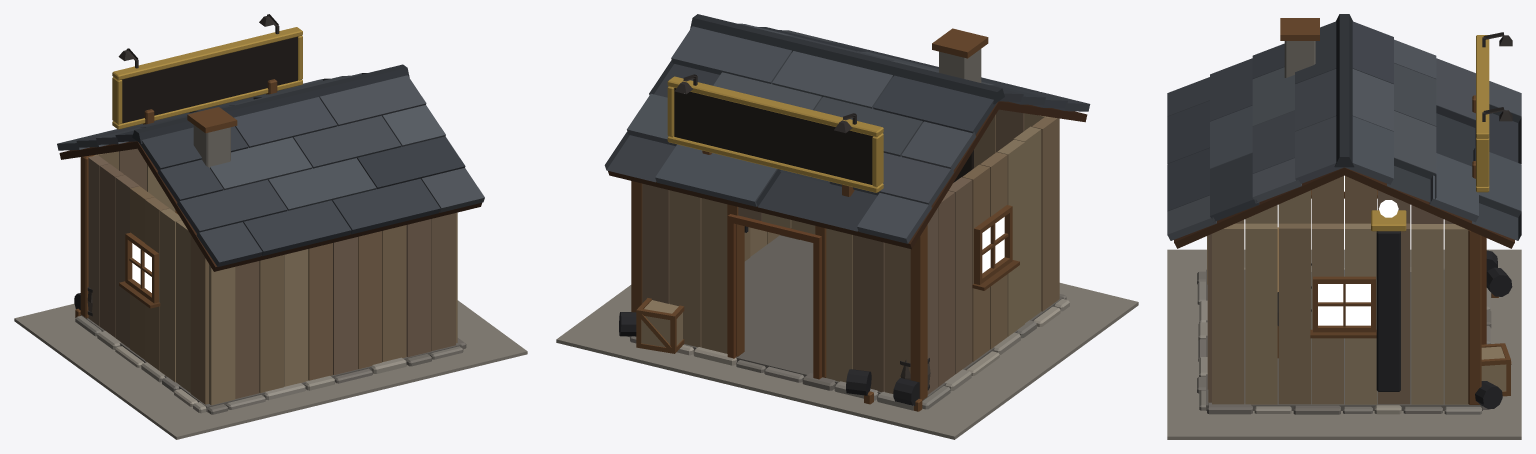
File: Sparkworks.glb
3 renders of one model, left to right at view 1: azimuth 30°, elevation 25°; view 2: azimuth 150°, elevation 25°; view 3: azimuth 270°, elevation 25°, orthographic. The views are drawn at different scales.
Visible parts, largest first — view 1: Body, Roof, Sign, Glow; view 2: Body, Roof, Sign, Glow; view 3: Body, Roof, Glow.
Part boxes in pixels (x1,y1,x2,y2): Body: (14,14,527,439); Roof: (57,64,484,271); Sign: (122,36,297,123); Glow: (132,243,151,292); Body: (556,28,1138,439); Roof: (604,14,1090,249); Sign: (674,88,973,184); Glow: (982,217,1004,273); Body: (1167,18,1521,439); Roof: (1167,14,1521,248); Glow: (1318,46,1509,325).
Size of what is drawn, in the model's own units: 20 by 13.85 by 16.01.
